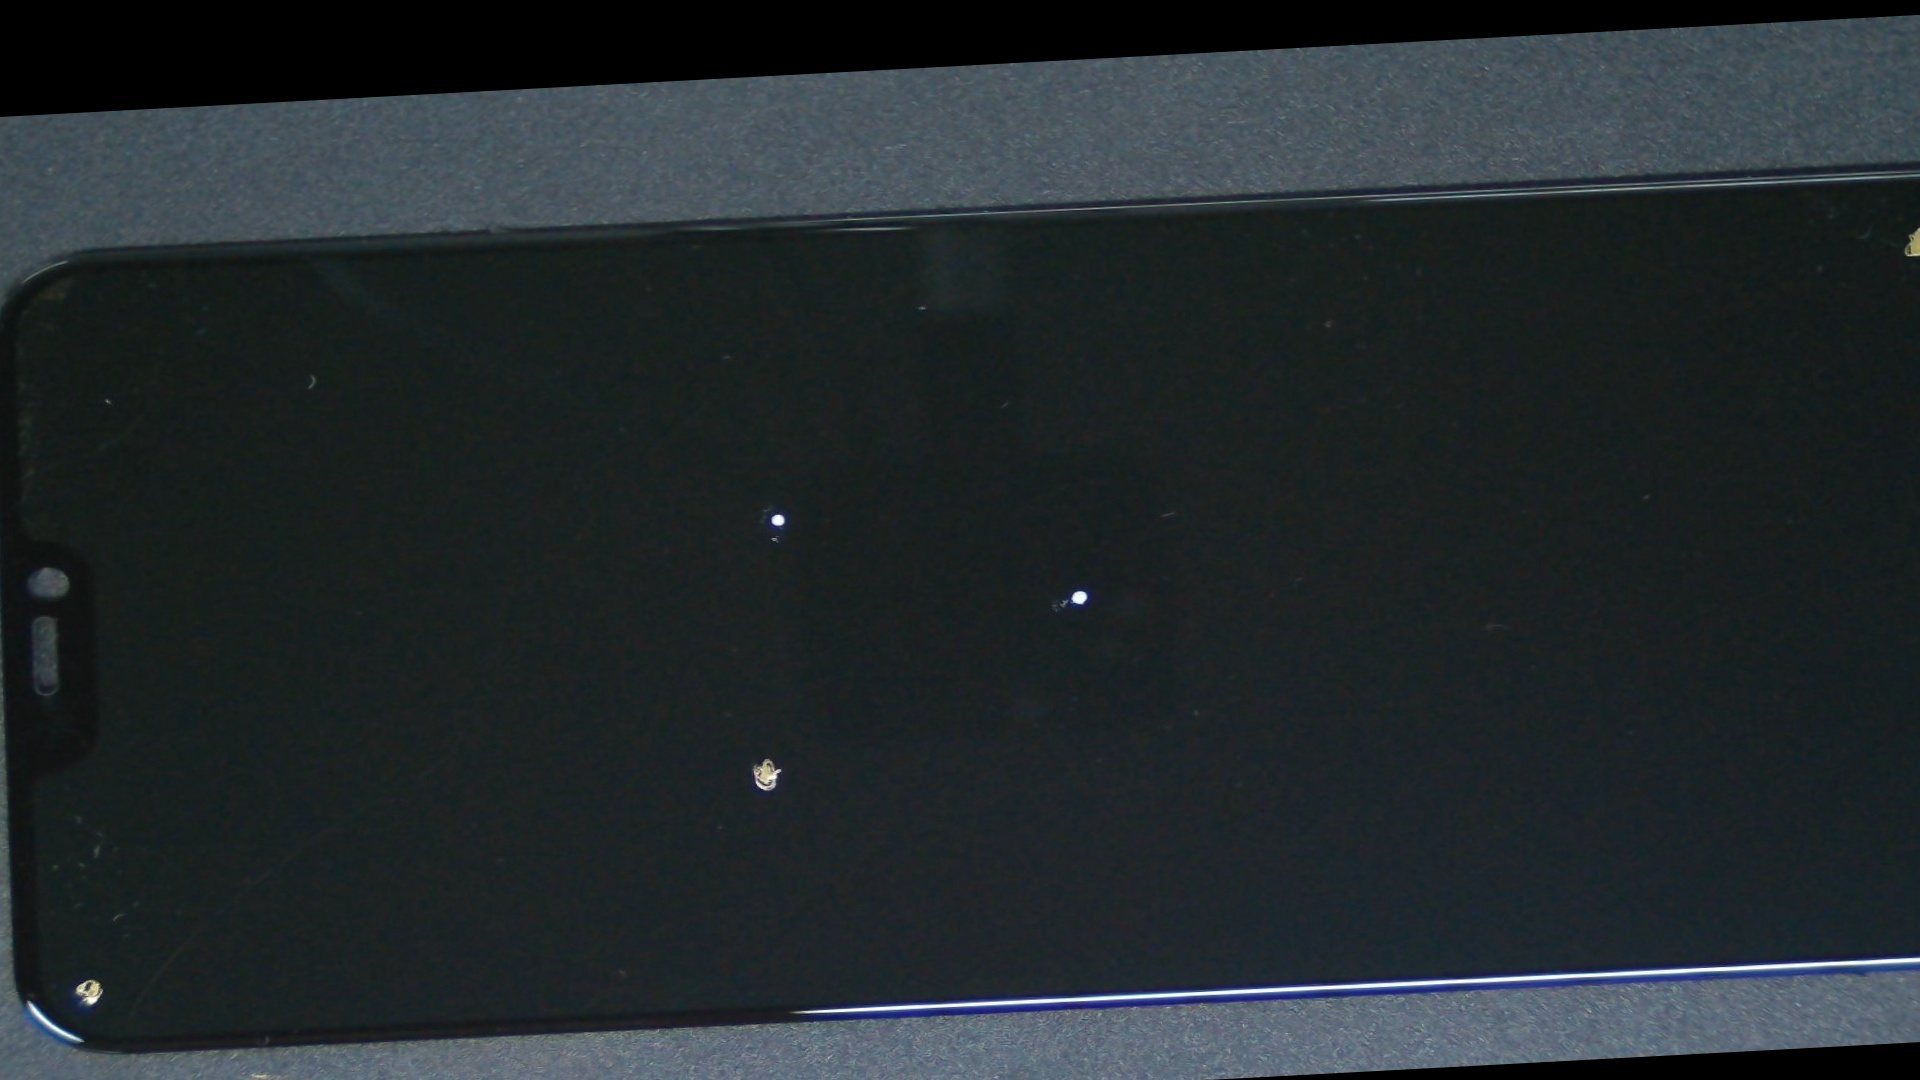oil: (479, 293, 1677, 884), (322, 394, 1205, 1080), (331, 270, 1234, 754), (901, 108, 1920, 384), (0, 542, 178, 1080)
